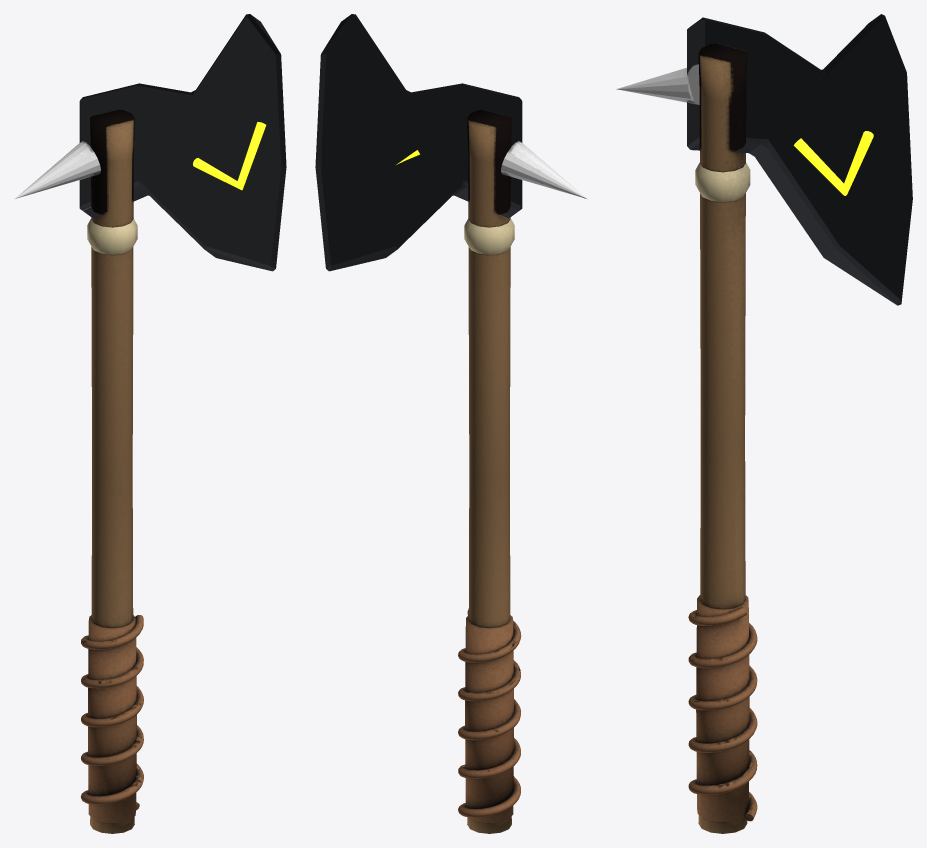
The model's file is arma_machado_mao_excelente.glb.
3 views of the same model, side by side, from view 1: azimuth 30°, elevation 25°; view 2: azimuth 150°, elevation 25°; view 3: azimuth 330°, elevation 25° (orthographic). The views are drawn at different scales.
Parts seen in each view (by area): view 1: arma_machado_mao_excelente, runa_mach; view 2: arma_machado_mao_excelente; view 3: arma_machado_mao_excelente, runa_mach.
Boxes of the visible parts, box(x1,y1,x2,y2) form: arma_machado_mao_excelente: box(15, 14, 286, 833); runa_mach: box(193, 122, 266, 190); arma_machado_mao_excelente: box(315, 14, 586, 833); arma_machado_mao_excelente: box(616, 14, 912, 833); runa_mach: box(793, 131, 873, 195).
Bounding box in the file's own units: 0.25 × 0.6777 × 0.0504.
Materials: 2 (1 with a texture image).
